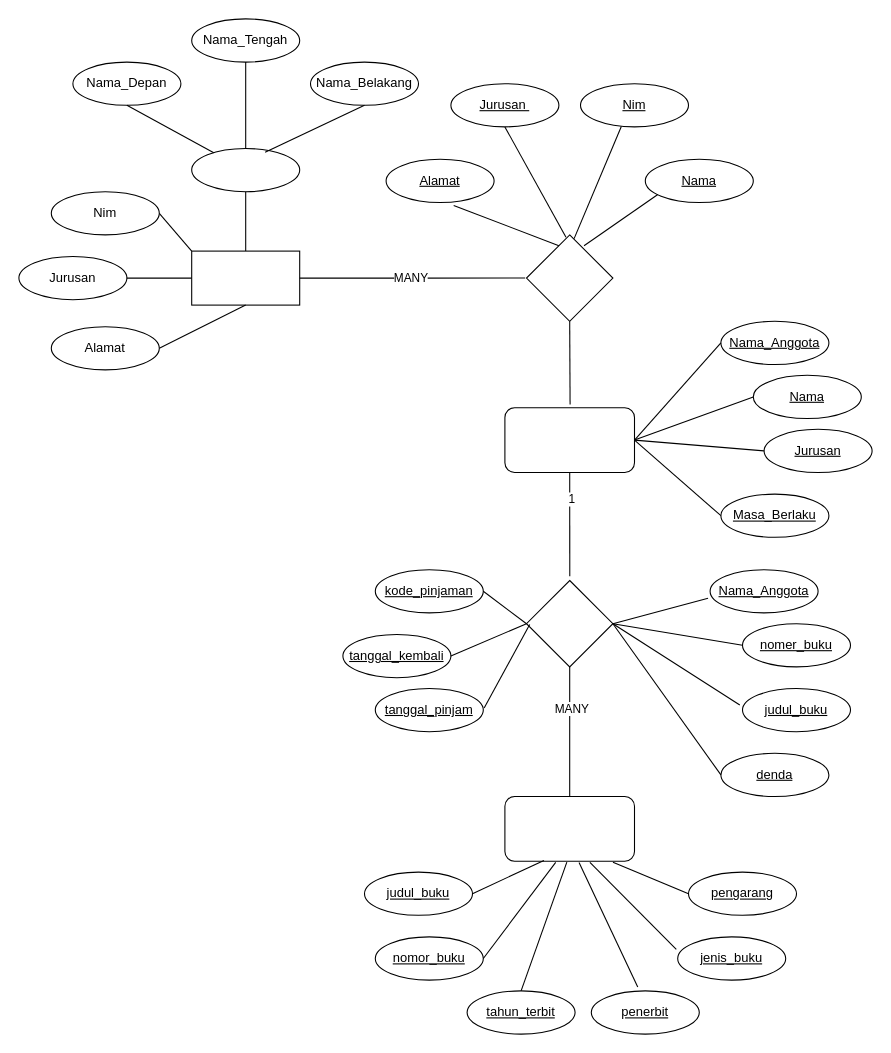
This 891x1053 diagram has some shape labels left out. The centre of each missing label's shape, as x and y in pixels:
Anggota Perpustakaan: point (569, 440)
BUKU: point (569, 828)
Mahasiswa: point (245, 277)
meminjam: point (569, 623)
Mendaftar: point (569, 277)
Name: point (245, 169)
